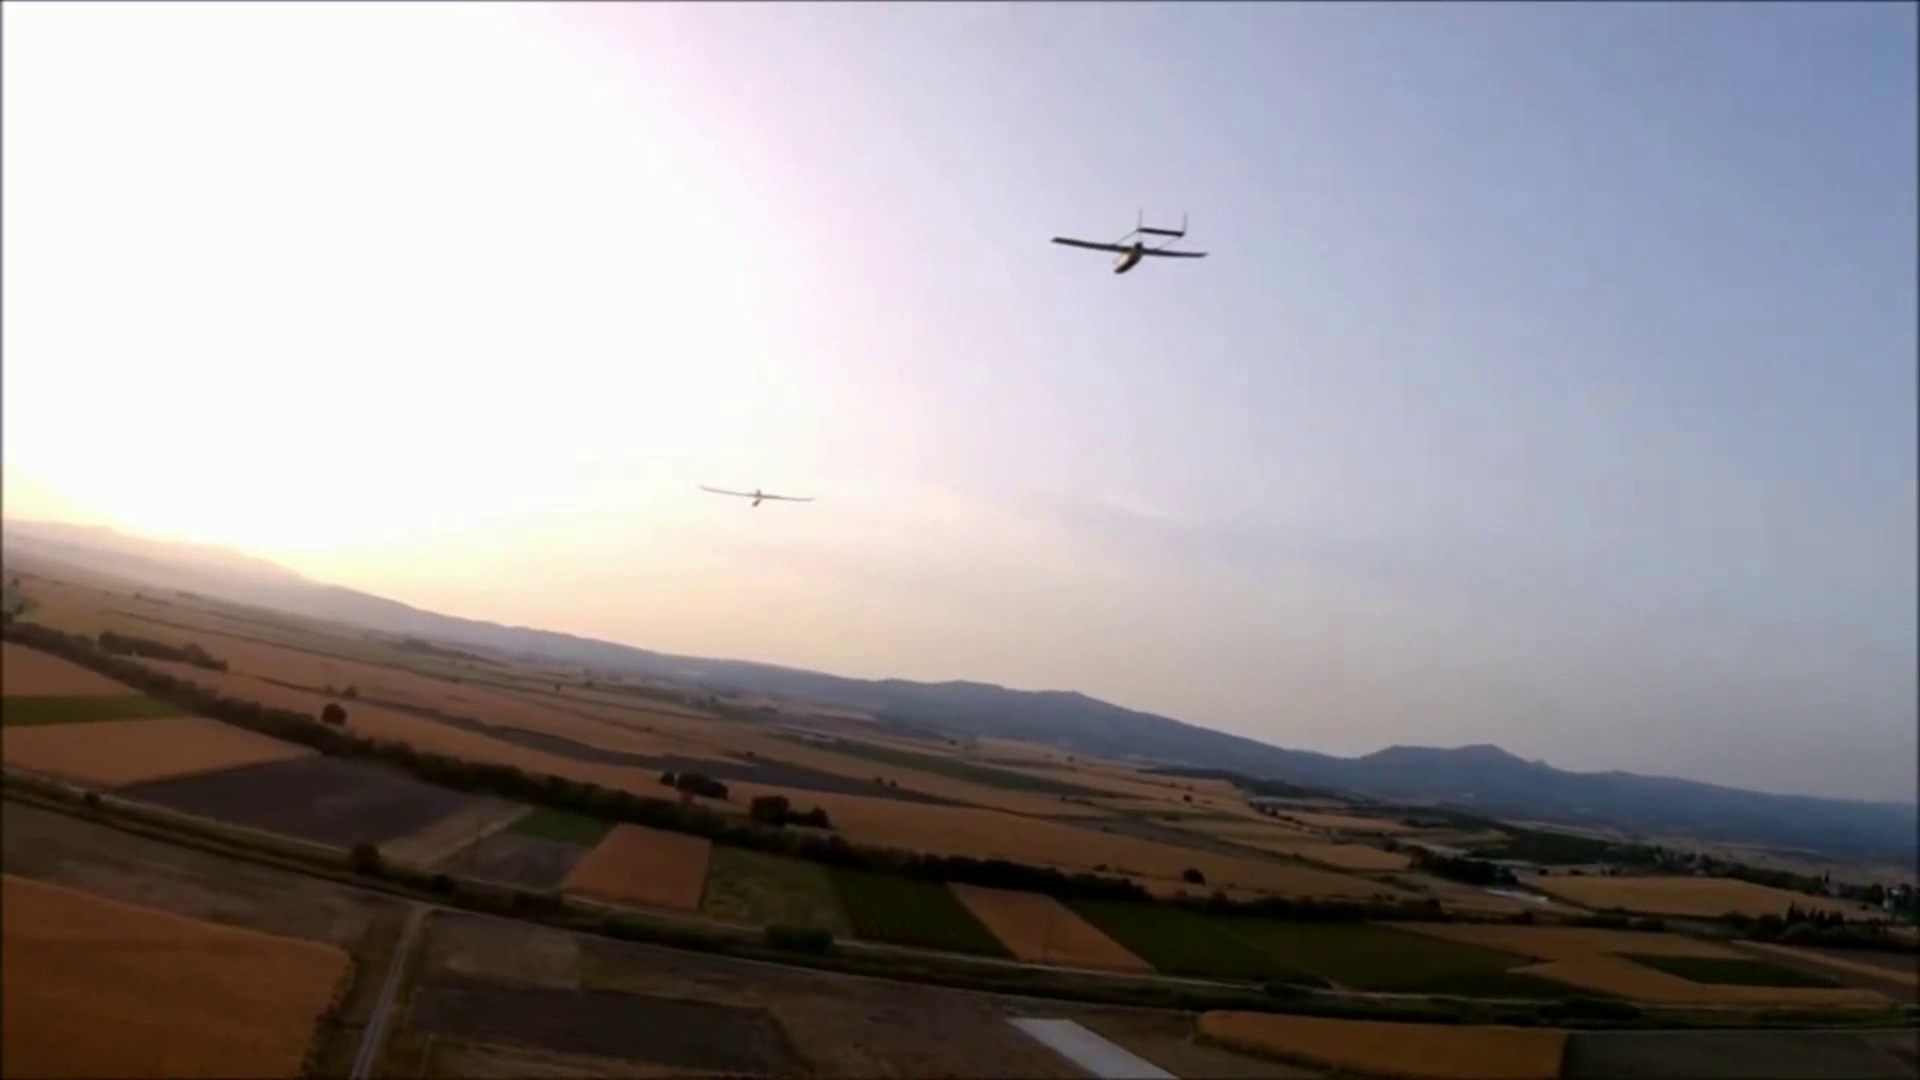airplane: (8, 463, 1849, 931), (1047, 204, 1207, 272), (695, 475, 814, 506)
